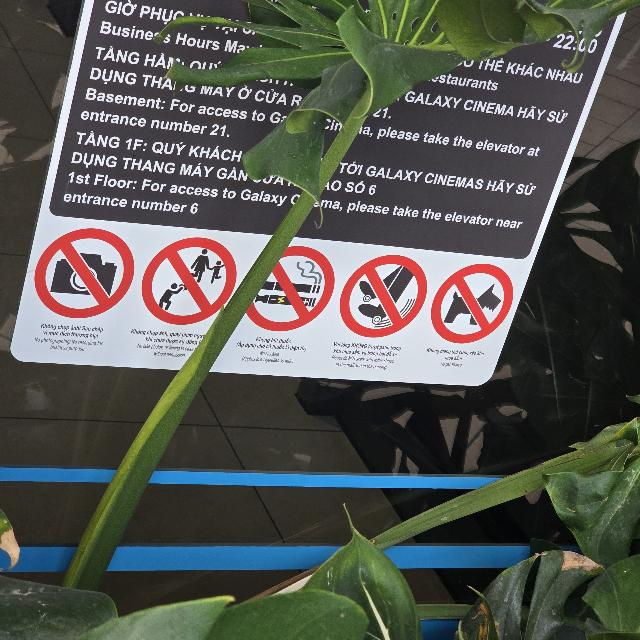cam hut thuoc: (248, 247, 335, 332)
